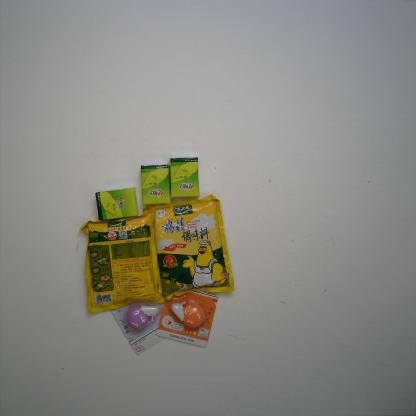Seasoner: (142, 194, 235, 300), (78, 207, 166, 314)
Stationery: (110, 284, 176, 355), (156, 281, 219, 347)
Tissue: (95, 187, 139, 220), (140, 164, 172, 206), (170, 157, 200, 198)
